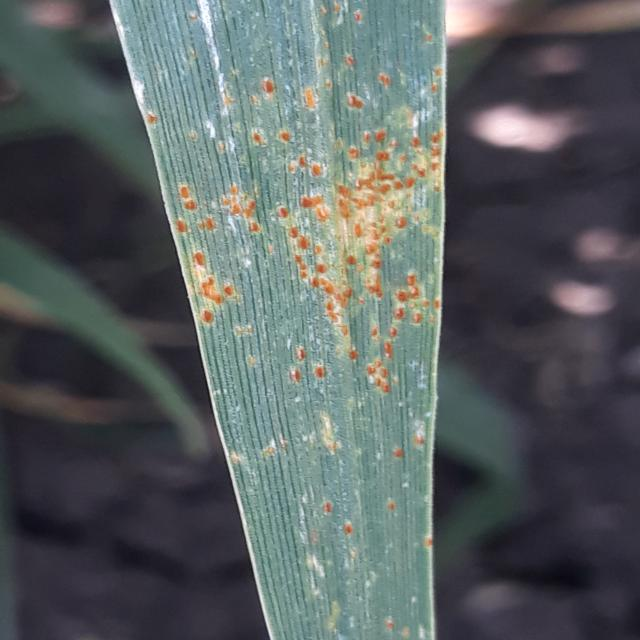orang_rust: (96, 5, 475, 640)
